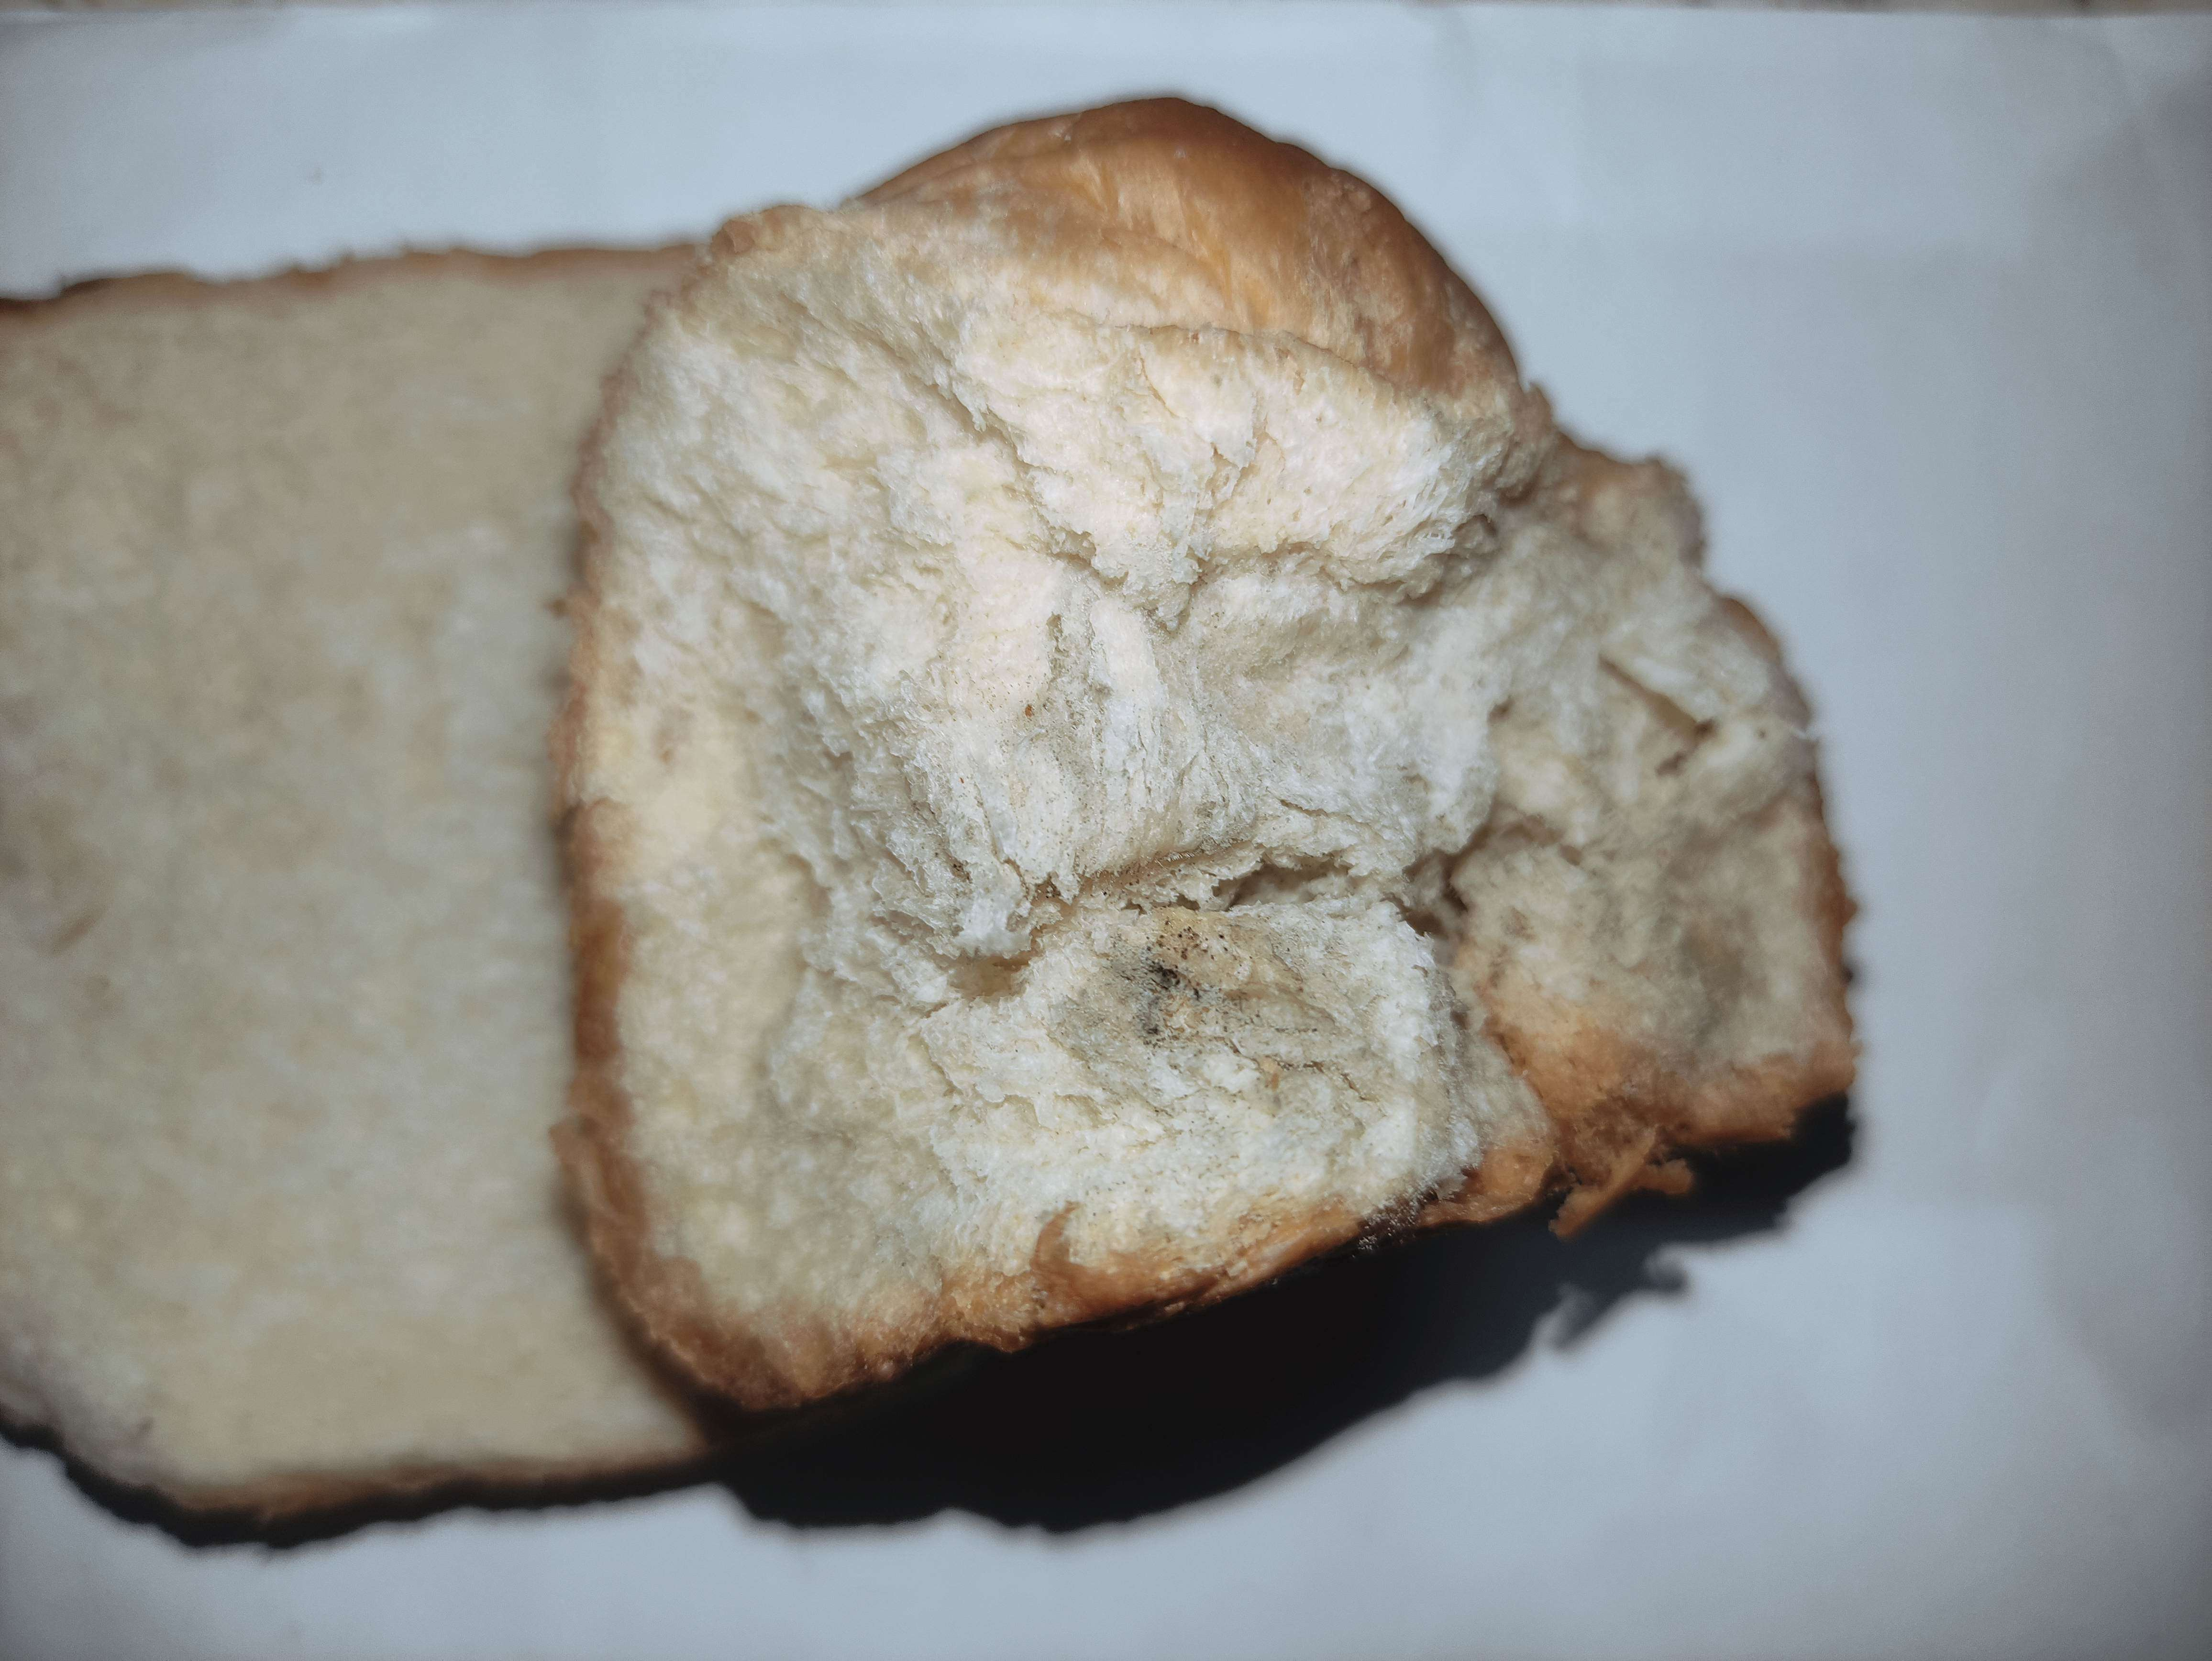mold_bread: (1174, 909, 1287, 1047), (1277, 968, 1396, 1089), (1073, 977, 1174, 1077), (1103, 919, 1205, 974), (1034, 871, 1078, 904), (1094, 860, 1143, 879), (1157, 848, 1198, 864)
